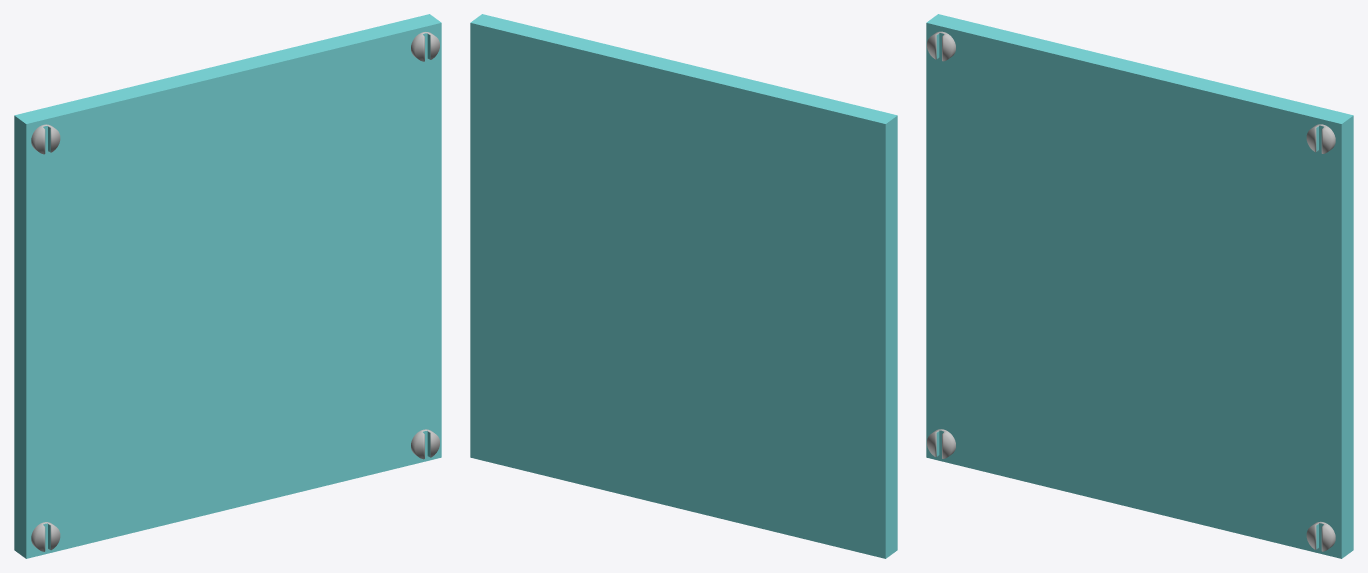
Rendered from glass.fbx.
3 renders of one model, left to right at view 1: azimuth 30°, elevation 25°; view 2: azimuth 150°, elevation 25°; view 3: azimuth 330°, elevation 25°, orthographic.
Parts seen in each view (by area): view 1: Cube; view 2: Cube; view 3: Cube.
Boxes of the visible parts, <box> form: Cube: <box>14,14,441,558</box>; Cube: <box>470,14,897,558</box>; Cube: <box>926,14,1353,558</box>.
Bounding box in the file's own units: 200 × 200 × 13.62.
